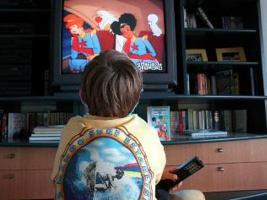person: (55, 51, 183, 199)
